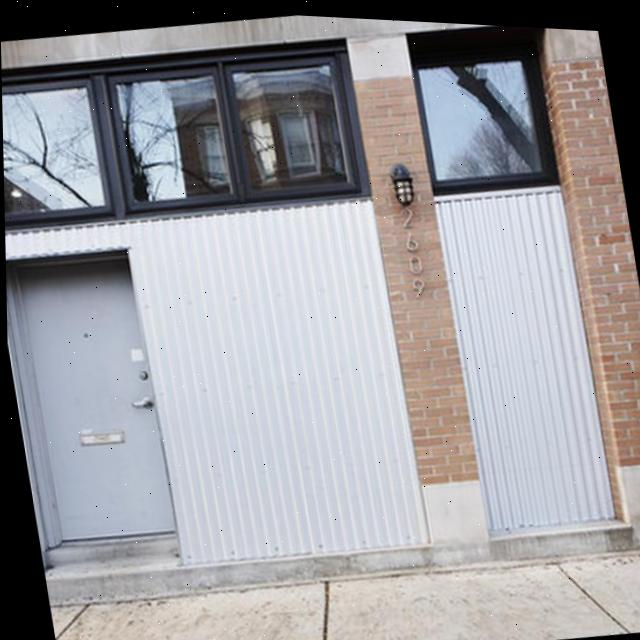building: (0, 0, 640, 635)
